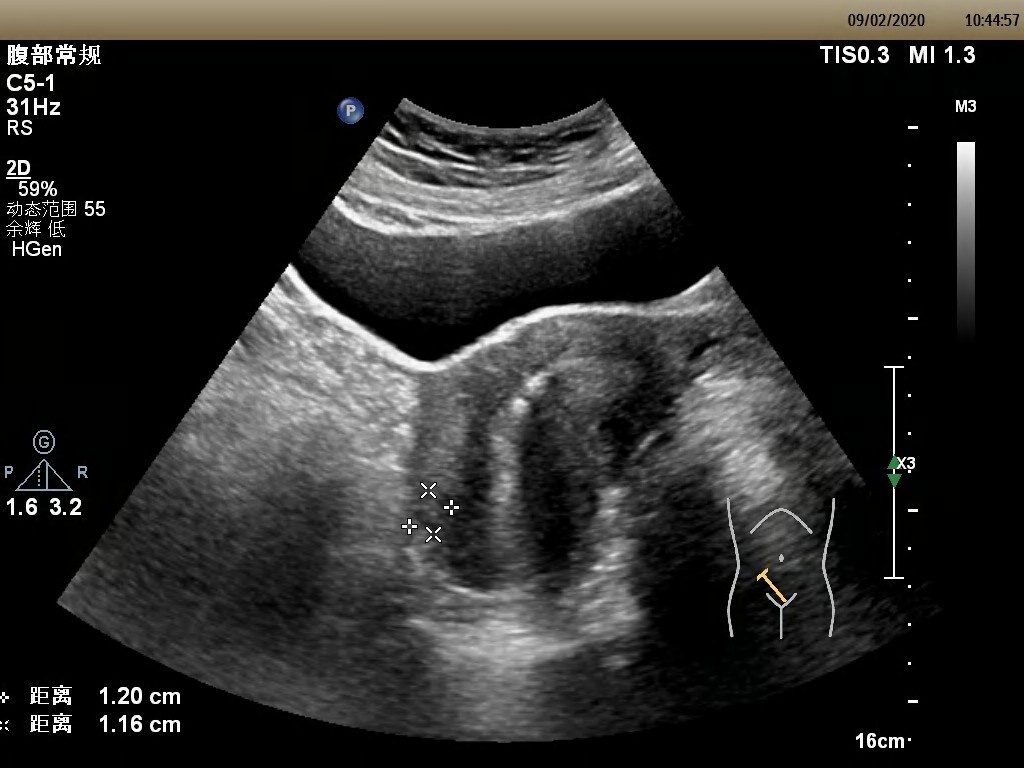肌瘤: (408, 486, 452, 538)
